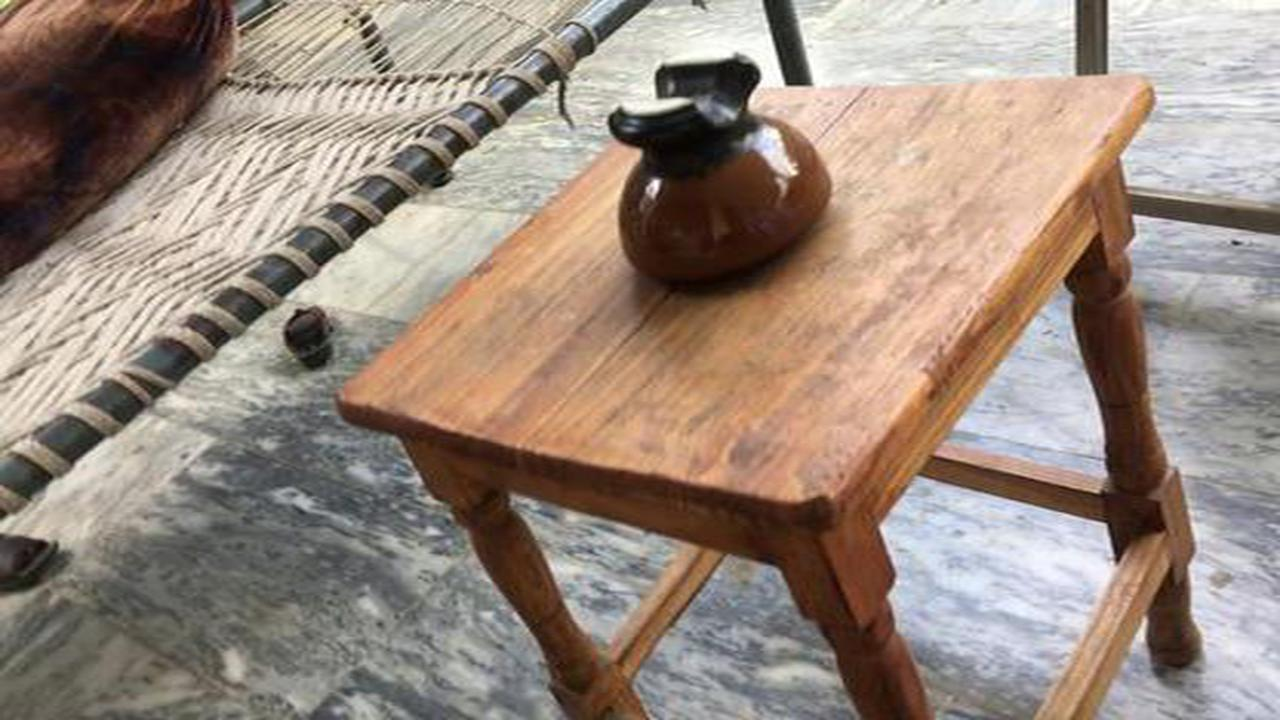insulator_pin: (585, 42, 856, 307)
